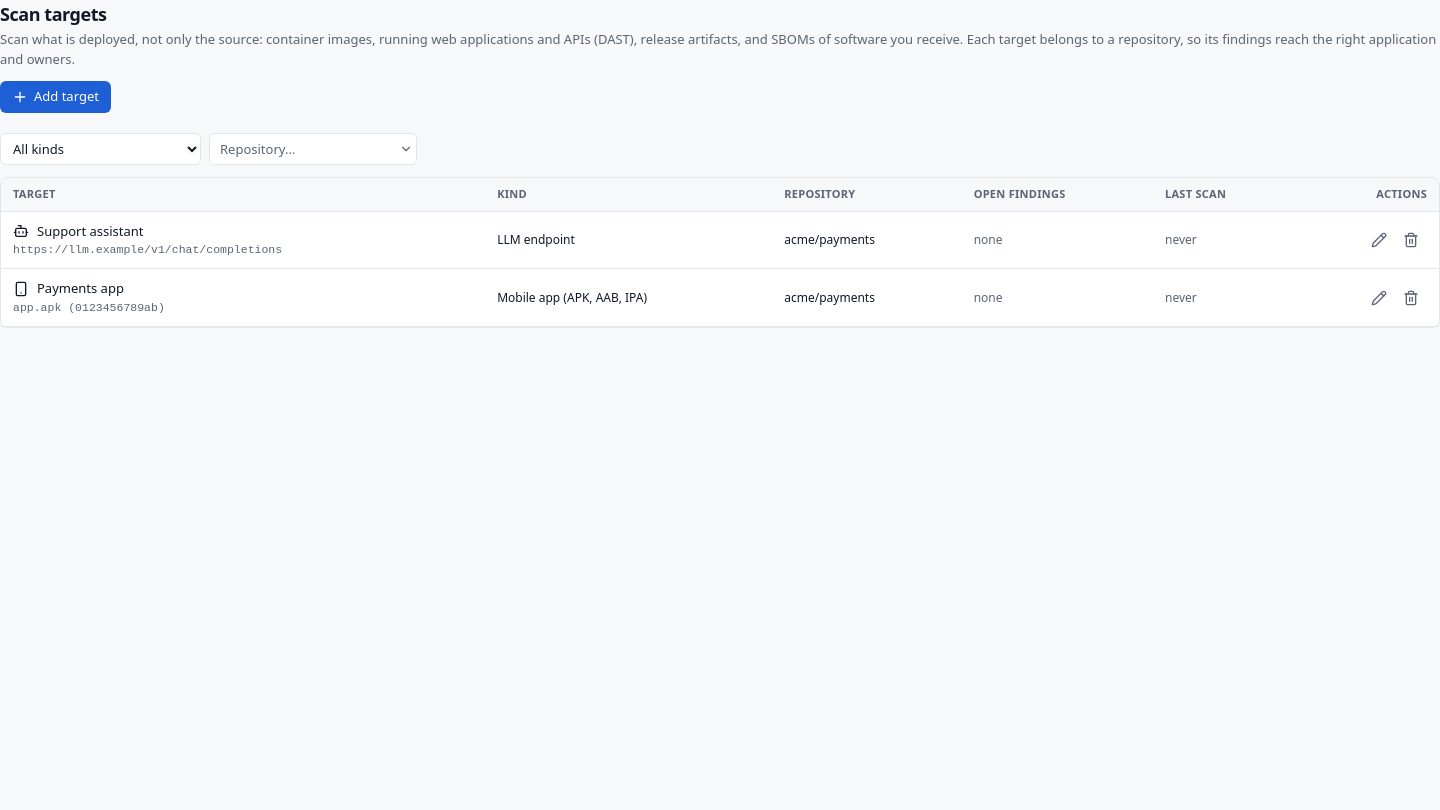
scan targets › edits an LLM endpoint target: the model name is required and sent in its configuration
The image size is (1440, 810).
Later steps or results of the test are not shown.
Expected: the text "Payments app" is shown, x1=13 y1=279 x2=124 y2=297
Click the button named "Edit Support assistant" at (1379, 240), box x1=1363 y1=224 x2=1395 y2=256
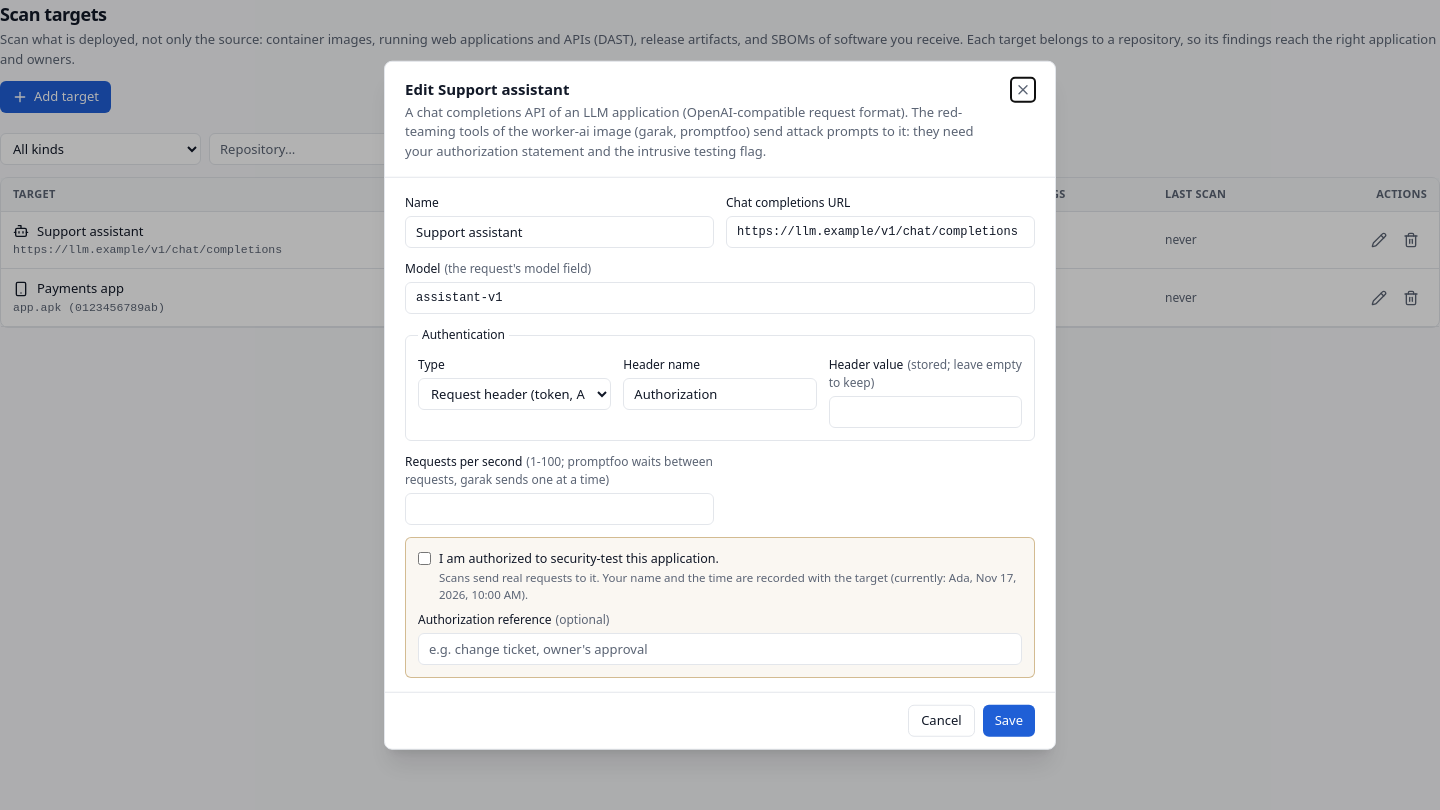
Expected: the field labelled "Chat completions URL" holds "https://llm.example/v1/chat/completions", x1=726 y1=216 x2=1035 y2=248
Expected: the field labelled "Model(the request's model field)" holds "assistant-v1"
Clear the field labelled "Model(the request's model field)" at (720, 298), box x1=405 y1=282 x2=1035 y2=314
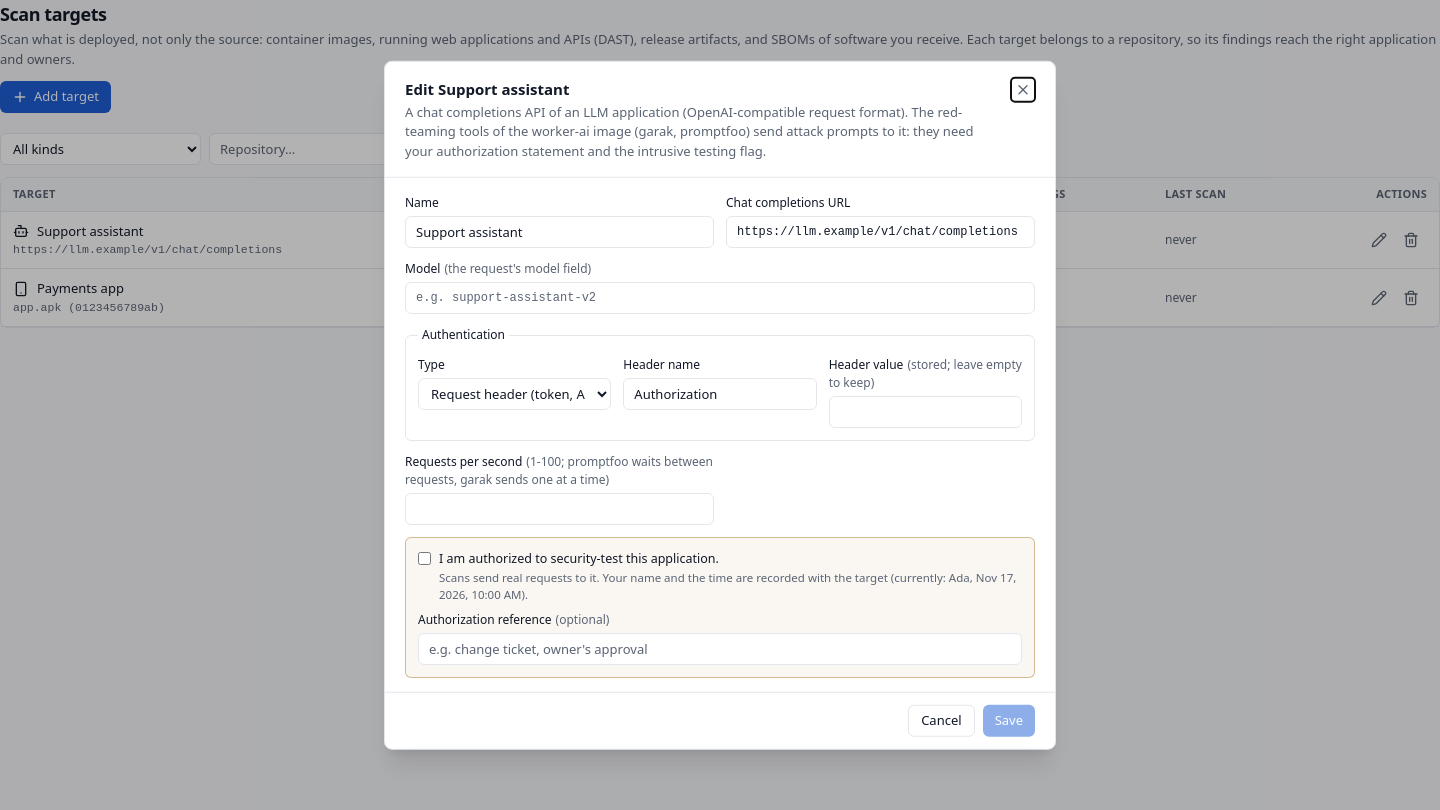
Expected: the button "Save" is disabled, x1=983 y1=704 x2=1035 y2=736
Type "assistant-v2" into the field labelled "Model(the request's model field)" at (720, 298), box x1=405 y1=282 x2=1035 y2=314
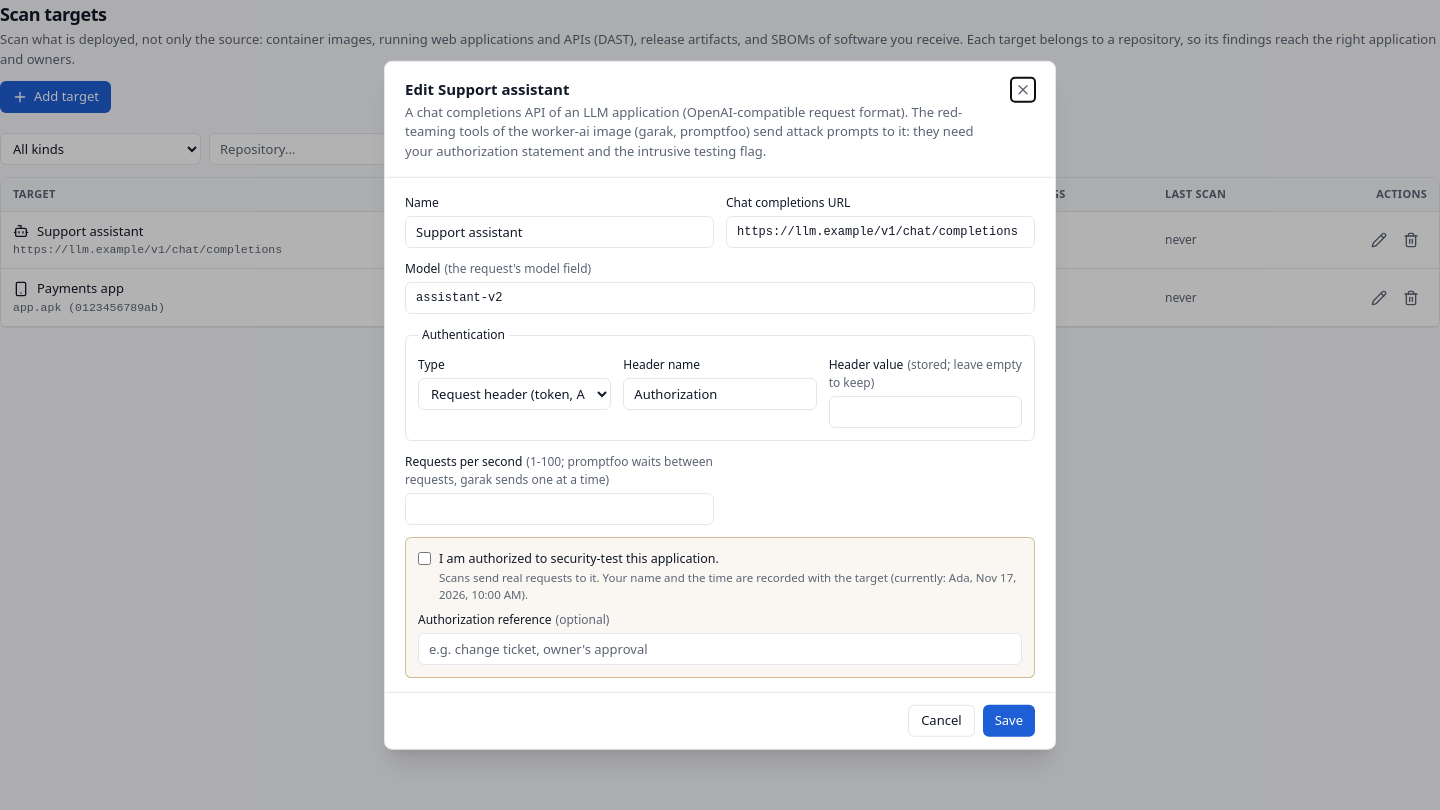
Expected: the button "Save" is enabled, x1=983 y1=704 x2=1035 y2=736
